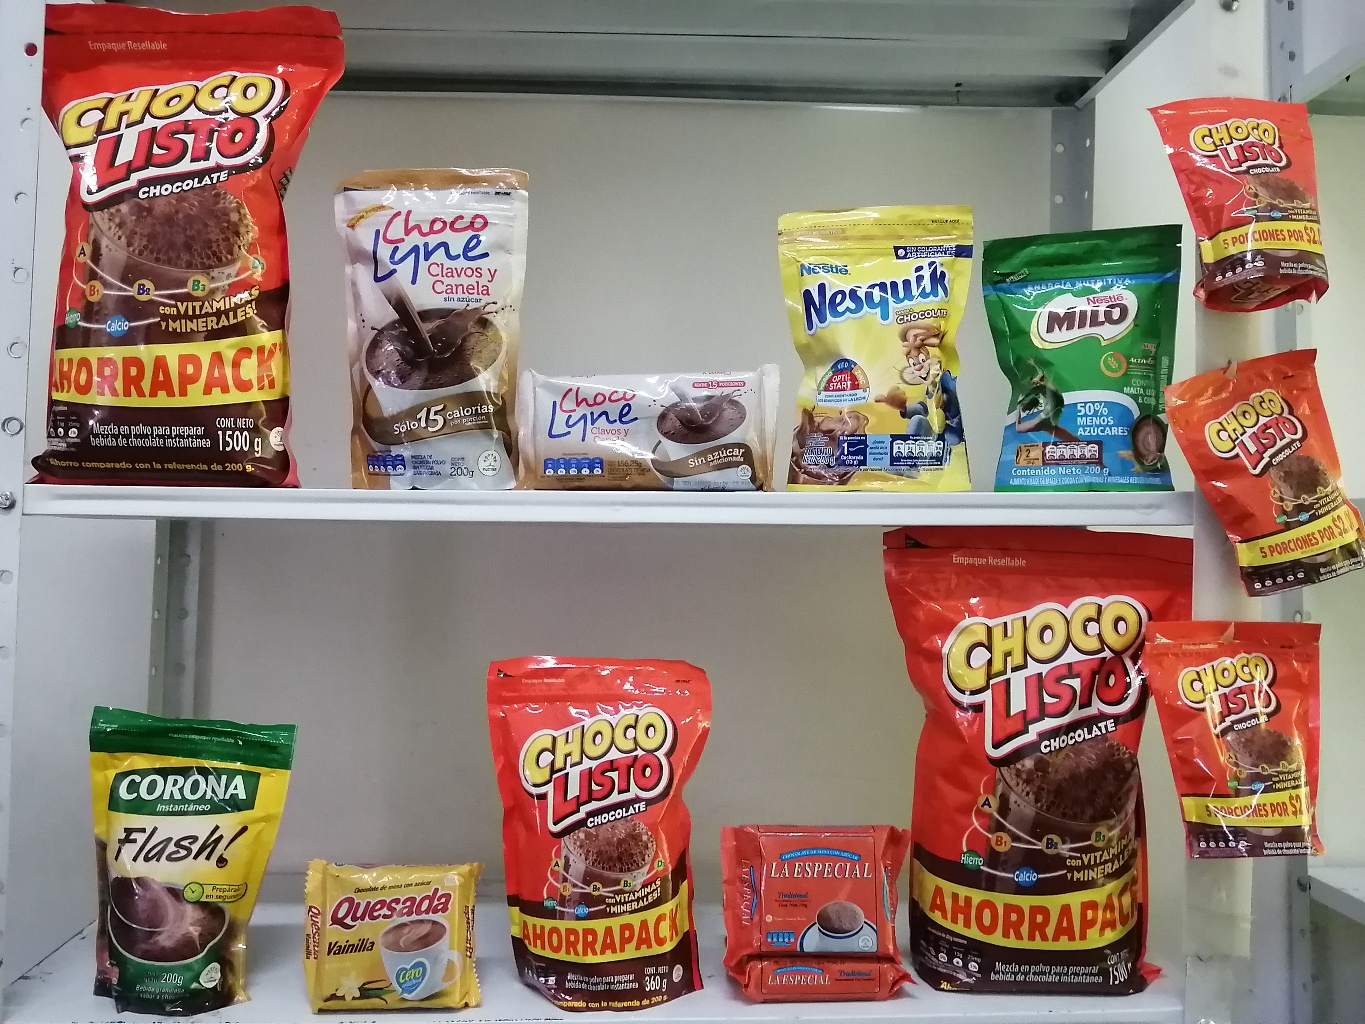COL0170103DYP1,500: (850, 509, 1203, 1009)
COL0170103DYP36000: (473, 636, 723, 1019)
COL0170205DYP20000: (959, 217, 1195, 490)
COL0170303DYP20000: (747, 193, 987, 495)
